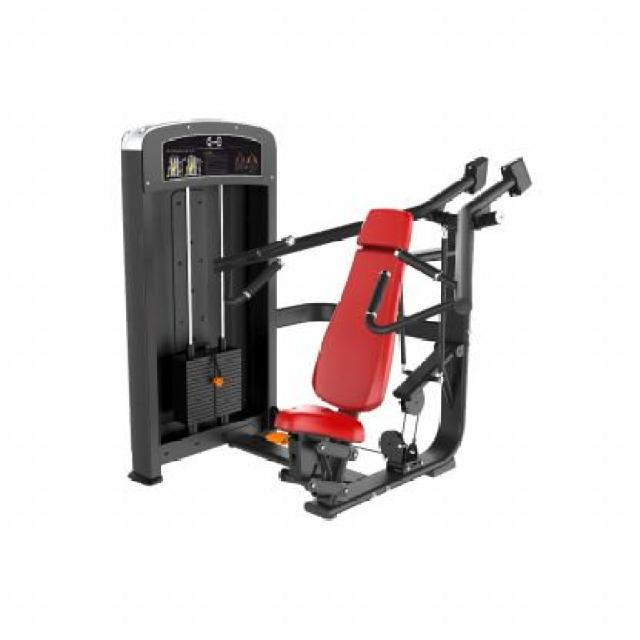shoulder press machine: (109, 103, 534, 531)
